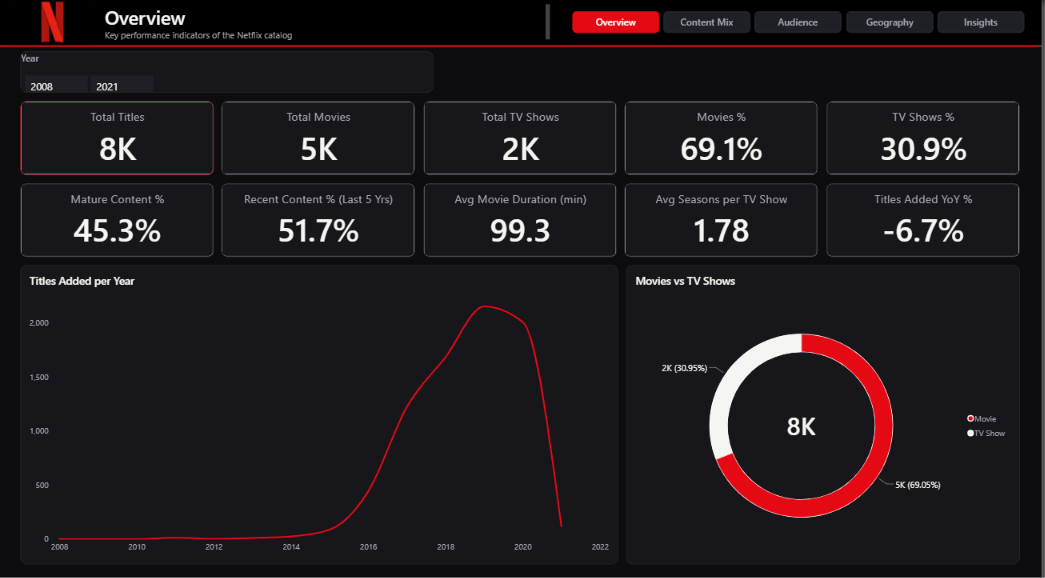

What the dashboard file says about the page in this screenshot:
{"tool":"powerbi","page":{"name":"Overview","canvas":[1920,1080],"ordinal":0},"visuals":[{"type":"textbox","box":[0,0,1920,84],"z":100},{"type":"textbox","box":[0,84,1920,3],"z":110},{"type":"image","box":[24,0,150,84],"z":120},{"type":"textbox","box":[196,10,820,66],"z":130},{"type":"actionButton","box":[1056,22,160,40],"z":140},{"type":"actionButton","box":[1224,22,160,40],"z":141},{"type":"actionButton","box":[1392,22,160,40],"z":142},{"type":"actionButton","box":[1560,22,160,40],"z":143},{"type":"actionButton","box":[1728,22,160,40],"z":144},{"type":"slicer","title":"Year","fields":{"Values":["dim_Date.Year"]},"box":[40,96,760,76],"z":1000},{"type":"cardVisual","fields":{"Data":["_Measures.Total Titles"]},"box":[40,188,356,136],"z":1010},{"type":"cardVisual","fields":{"Data":["_Measures.Total Movies"]},"box":[411,188,356,136],"z":1011},{"type":"cardVisual","fields":{"Data":["_Measures.Total TV Shows"]},"box":[782,188,356,136],"z":1012},{"type":"cardVisual","fields":{"Data":["_Measures.Movies %"]},"box":[1153,188,356,136],"z":1013},{"type":"cardVisual","fields":{"Data":["_Measures.TV Shows %"]},"box":[1524,188,356,136],"z":1014},{"type":"cardVisual","fields":{"Data":["_Measures.Mature Content %"]},"box":[40,338,356,136],"z":1015},{"type":"cardVisual","fields":{"Data":["_Measures.Recent Content % (Last 5 Yrs)"]},"box":[411,338,356,136],"z":1016},{"type":"cardVisual","fields":{"Data":["_Measures.Avg Movie Duration (min)"]},"box":[782,338,356,136],"z":1017},{"type":"cardVisual","fields":{"Data":["_Measures.Avg Seasons per TV Show"]},"box":[1153,338,356,136],"z":1018},{"type":"cardVisual","fields":{"Data":["_Measures.Titles Added YoY %"]},"box":[1524,338,356,136],"z":1019},{"type":"lineChart","title":"Titles Added per Year","fields":{"Category":["dim_Date.Year"],"Y":["_Measures.Total Titles"]},"box":[40,490,1100,550],"z":1100},{"type":"donutChart","title":"Movies vs TV Shows","fields":{"Category":["netflix_titles.type"],"Y":["_Measures.Total Titles"]},"box":[1156,490,724,550],"z":1110}]}

Visuals, with their boxes in screenshot pixels (x1, y1, x2, y2), scaled from the page's 1920x1080 canvas onto the 1045x578 screenshot:
textbox: l=0, t=0, r=1044, b=45
textbox: l=0, t=45, r=1044, b=47
image: l=13, t=0, r=95, b=45
textbox: l=107, t=5, r=553, b=41
actionButton: l=575, t=12, r=662, b=33
actionButton: l=666, t=12, r=753, b=33
actionButton: l=758, t=12, r=845, b=33
actionButton: l=849, t=12, r=936, b=33
actionButton: l=941, t=12, r=1028, b=33
"Year" slicer: l=22, t=51, r=435, b=92
cardVisual - _Measures.Total Titles: l=22, t=101, r=216, b=173
cardVisual - _Measures.Total Movies: l=224, t=101, r=417, b=173
cardVisual - _Measures.Total TV Shows: l=426, t=101, r=619, b=173
cardVisual - _Measures.Movies %: l=628, t=101, r=821, b=173
cardVisual - _Measures.TV Shows %: l=829, t=101, r=1023, b=173
cardVisual - _Measures.Mature Content %: l=22, t=181, r=216, b=254
cardVisual - _Measures.Recent Content % (Last 5 Yrs): l=224, t=181, r=417, b=254
cardVisual - _Measures.Avg Movie Duration (min): l=426, t=181, r=619, b=254
cardVisual - _Measures.Avg Seasons per TV Show: l=628, t=181, r=821, b=254
cardVisual - _Measures.Titles Added YoY %: l=829, t=181, r=1023, b=254
"Titles Added per Year" lineChart: l=22, t=262, r=620, b=557
"Movies vs TV Shows" donutChart: l=629, t=262, r=1023, b=557
